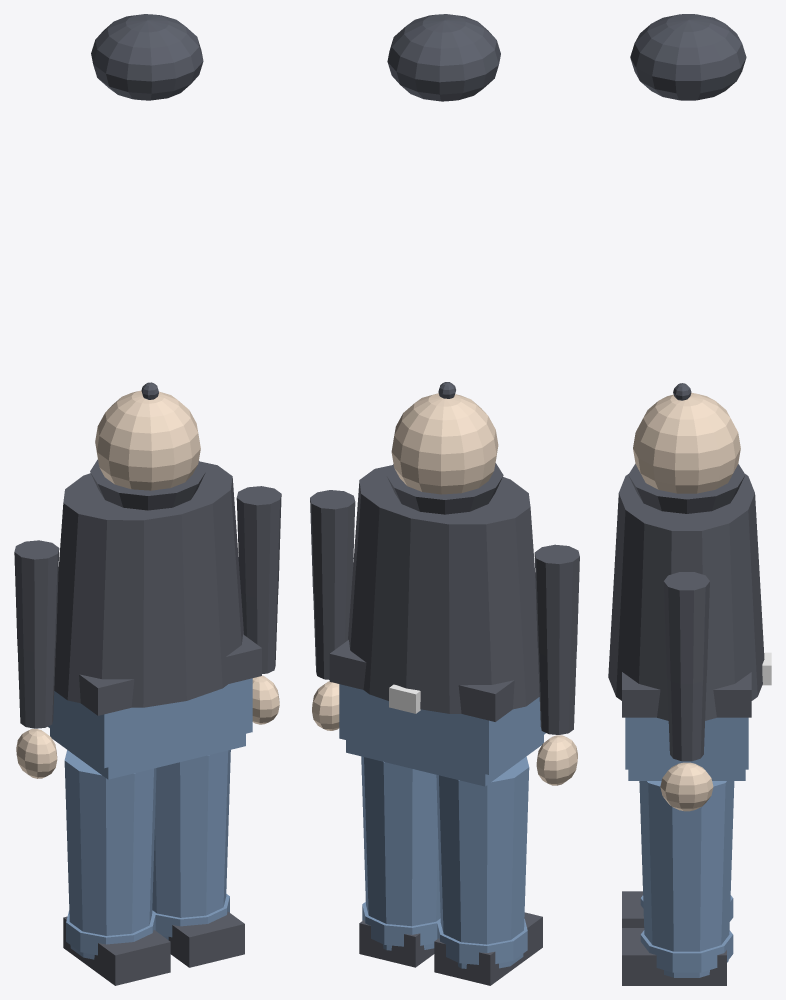
File: hero.glb
3 renders of one model, left to right at view 1: azimuth 30°, elevation 25°; view 2: azimuth 150°, elevation 25°; view 3: azimuth 270°, elevation 25°, orthographic.
Parts seen in each view (by area): view 1: Torso, Leg_L, Leg_R, Waist, Head, CapDome, Arm_L, Arm_R, Shoe_L, Hem, Shoe_R, Fore_L (+7 smaller); view 2: Torso, Leg_L, Leg_R, Waist, Head, CapDome, Arm_L, Arm_R, Hem, Fore_L, Collar, Shoe_L (+8 smaller); view 3: Torso, Leg_R, Head, CapDome, Waist, Arm_R, Fore_R, Shoe_R, Hem, Collar, Hand_R, Cuff_R (+2 smaller).
Part boxes in pixels (x1,y1,x2,y2): Torso: (54, 461, 243, 707); Leg_L: (64, 750, 156, 959); Leg_R: (152, 750, 230, 939); Waist: (48, 678, 252, 768); Head: (95, 390, 200, 490); CapDome: (91, 14, 203, 100); Arm_L: (14, 540, 59, 652); Arm_R: (236, 486, 281, 598); Shoe_L: (63, 916, 170, 985); Hem: (79, 634, 261, 715); Shoe_R: (168, 911, 244, 967); Fore_L: (17, 644, 55, 728); Torso: (348, 465, 539, 713); Leg_L: (436, 756, 529, 968); Leg_R: (361, 756, 440, 950); Waist: (339, 684, 545, 774); Head: (391, 393, 498, 494); CapDome: (387, 14, 500, 101); Arm_L: (534, 544, 579, 657); Arm_R: (310, 490, 355, 603); Hem: (329, 640, 514, 721); Fore_L: (538, 650, 576, 734); Collar: (386, 463, 503, 514); Shoe_L: (434, 912, 542, 985); Torso: (608, 474, 764, 720); Leg_R: (639, 781, 734, 977); Head: (633, 392, 740, 493); CapDome: (630, 14, 746, 100); Waist: (625, 717, 748, 769); Arm_R: (663, 572, 709, 684); Fore_R: (667, 677, 706, 761); Shoe_R: (622, 928, 726, 985); Hem: (622, 672, 751, 717); Collar: (628, 464, 745, 513); Hand_R: (660, 762, 713, 811); Cuff_R: (640, 930, 733, 972).
Bounding box in the file's own units: 0.9827 × 3.34 × 0.53.
